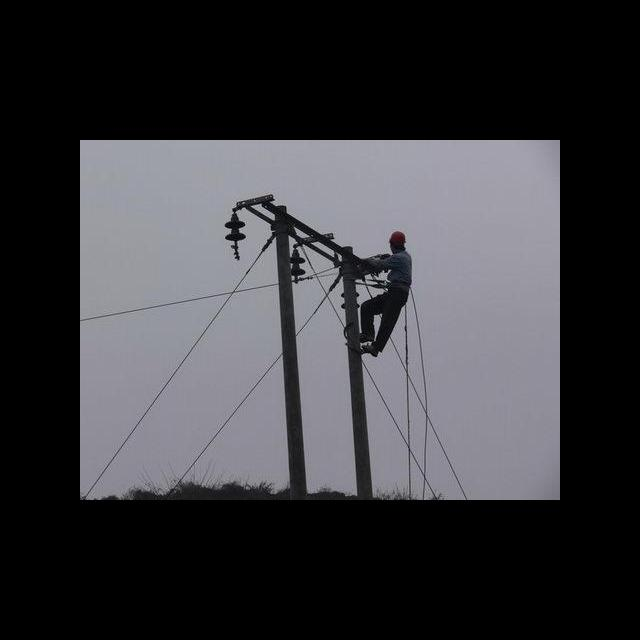Hardhat: (388, 231, 408, 245)
NO-Safety Vest: (388, 252, 411, 286)
Person: (357, 231, 413, 357)
